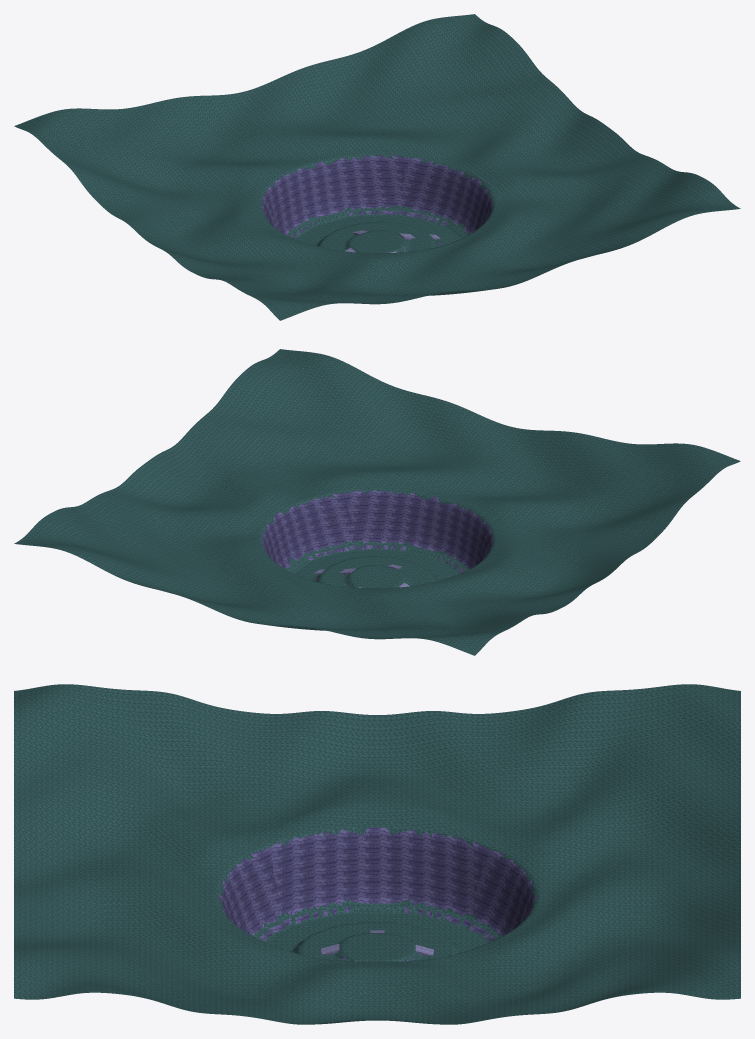
3 renders of one model, top to bottom at view 1: azimuth 30°, elevation 25°; view 2: azimuth 150°, elevation 25°; view 3: azimuth 270°, elevation 25°, orthographic. The views are drawn at different scales.
Parts seen in each view (by area): view 1: Star Fall; view 2: Star Fall; view 3: Star Fall.
Part boxes in pixels (x1,y1,x2,y2): Star Fall: (14, 14, 740, 320); Star Fall: (14, 349, 740, 655); Star Fall: (14, 684, 740, 1024).
Size of the model in its own units: 400 by 77.09 by 400.
Materials: 3 (3 with a texture image).
